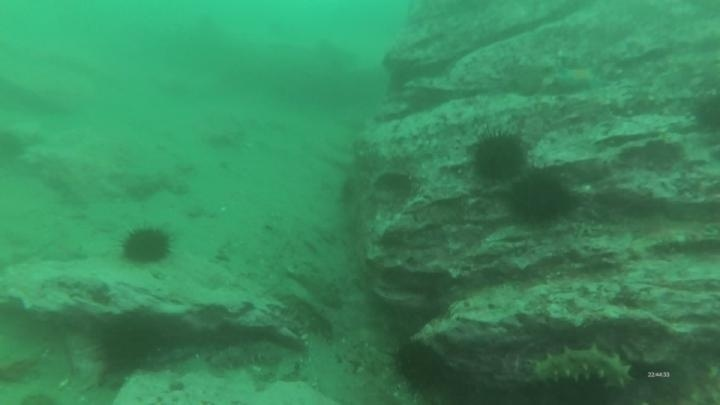echinus: (505, 167, 577, 229), (93, 315, 162, 377), (390, 336, 452, 397), (467, 127, 530, 186), (118, 222, 175, 268), (689, 89, 720, 135)
holothurian: (526, 342, 637, 393), (204, 337, 298, 375), (274, 290, 336, 340)
starfish: (552, 61, 609, 95)
